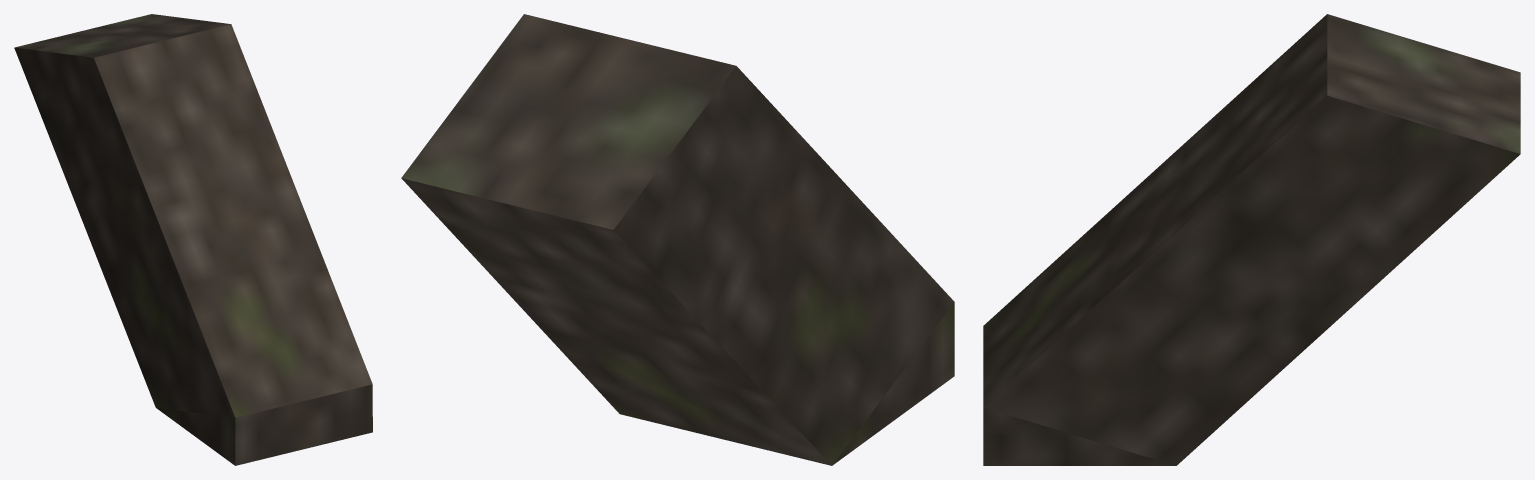
Rendered from spruce_branch_45_straight.obj.
3 views of the same model, side by side, from view 1: azimuth 30°, elevation 25°; view 2: azimuth 150°, elevation 25°; view 3: azimuth 270°, elevation 25° (orthographic). The views are drawn at different scales.
Visible parts, largest first — view 1: cube; view 2: cube; view 3: cube.
Part boxes in pixels (box(x1,y1,x2,y2)): cube: box(14, 14, 372, 465); cube: box(401, 14, 954, 465); cube: box(983, 14, 1520, 465).
Bounding box in the file's own units: 0.5615 × 1.19 × 1.56.
